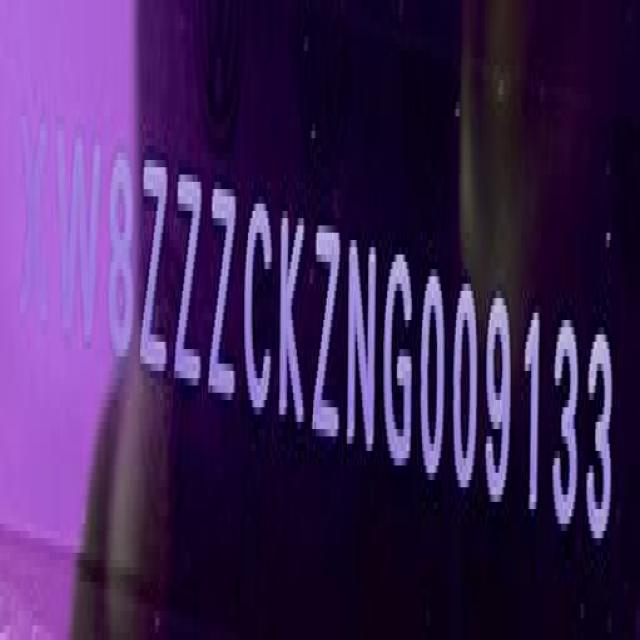0: (453, 272, 481, 498), (420, 260, 447, 487)
1: (524, 303, 542, 526)
3: (585, 314, 613, 546), (554, 311, 582, 539)
8: (109, 139, 135, 370)
9: (485, 287, 512, 512)
C: (244, 186, 274, 423)
G: (387, 237, 416, 473)
K: (280, 195, 307, 435)
N: (346, 235, 379, 452)
W: (52, 111, 98, 348)
X: (16, 105, 46, 334)
Z: (313, 211, 341, 457), (142, 144, 169, 382), (210, 170, 237, 408), (178, 162, 204, 397)
